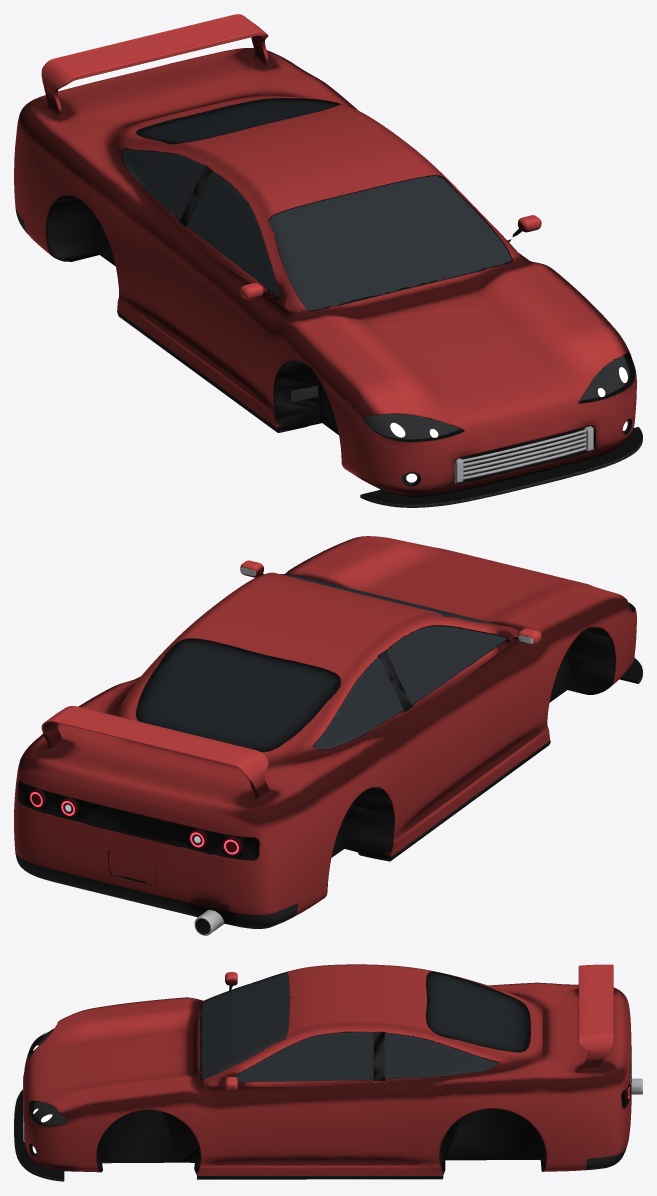
File: ronin.glb
The picture shows the model from 3 angles, top to bottom: view 1: azimuth 30°, elevation 25°; view 2: azimuth 150°, elevation 25°; view 3: azimuth 270°, elevation 25°; orthographic projection. The views are drawn at different scales.
Visible parts, largest first — view 1: paint, window, trim, glass, carbon, chrome, head, grille; view 2: paint, glass, trim, window, carbon, tail, chrome; view 3: paint, window, trim, glass, carbon, head.
Part boxes in pixels (x1=…): paint: x1=14, y1=14, x2=636, y2=495; window: x1=123, y1=149, x2=511, y2=310; trim: x1=46, y1=148, x2=635, y2=497; glass: x1=136, y1=98, x2=340, y2=144; carbon: x1=15, y1=208, x2=642, y2=507; chrome: x1=454, y1=426, x2=593, y2=482; head: x1=364, y1=355, x2=629, y2=484; grille: x1=459, y1=426, x2=587, y2=476; paint: x1=14, y1=536, x2=636, y2=916; glass: x1=136, y1=638, x2=340, y2=752; trim: x1=17, y1=573, x2=635, y2=885; window: x1=280, y1=574, x2=506, y2=749; carbon: x1=15, y1=658, x2=642, y2=928; tail: x1=29, y1=788, x2=242, y2=855; chrome: x1=194, y1=567, x2=533, y2=935; paint: x1=23, y1=964, x2=631, y2=1175; window: x1=201, y1=973, x2=498, y2=1081; trim: x1=28, y1=972, x2=631, y2=1179; glass: x1=426, y1=971, x2=530, y2=1052; carbon: x1=14, y1=1055, x2=626, y2=1181; head: x1=34, y1=1030, x2=66, y2=1154.
Size of what is drawn, in the model's own units: 1.98 by 1.12 by 4.69.
